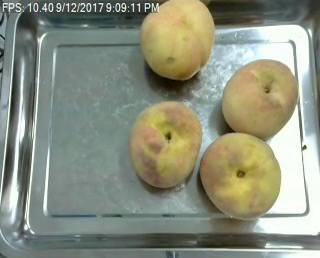Peach: (199, 133, 281, 217), (129, 100, 201, 188), (219, 58, 298, 138), (140, 0, 216, 80)
